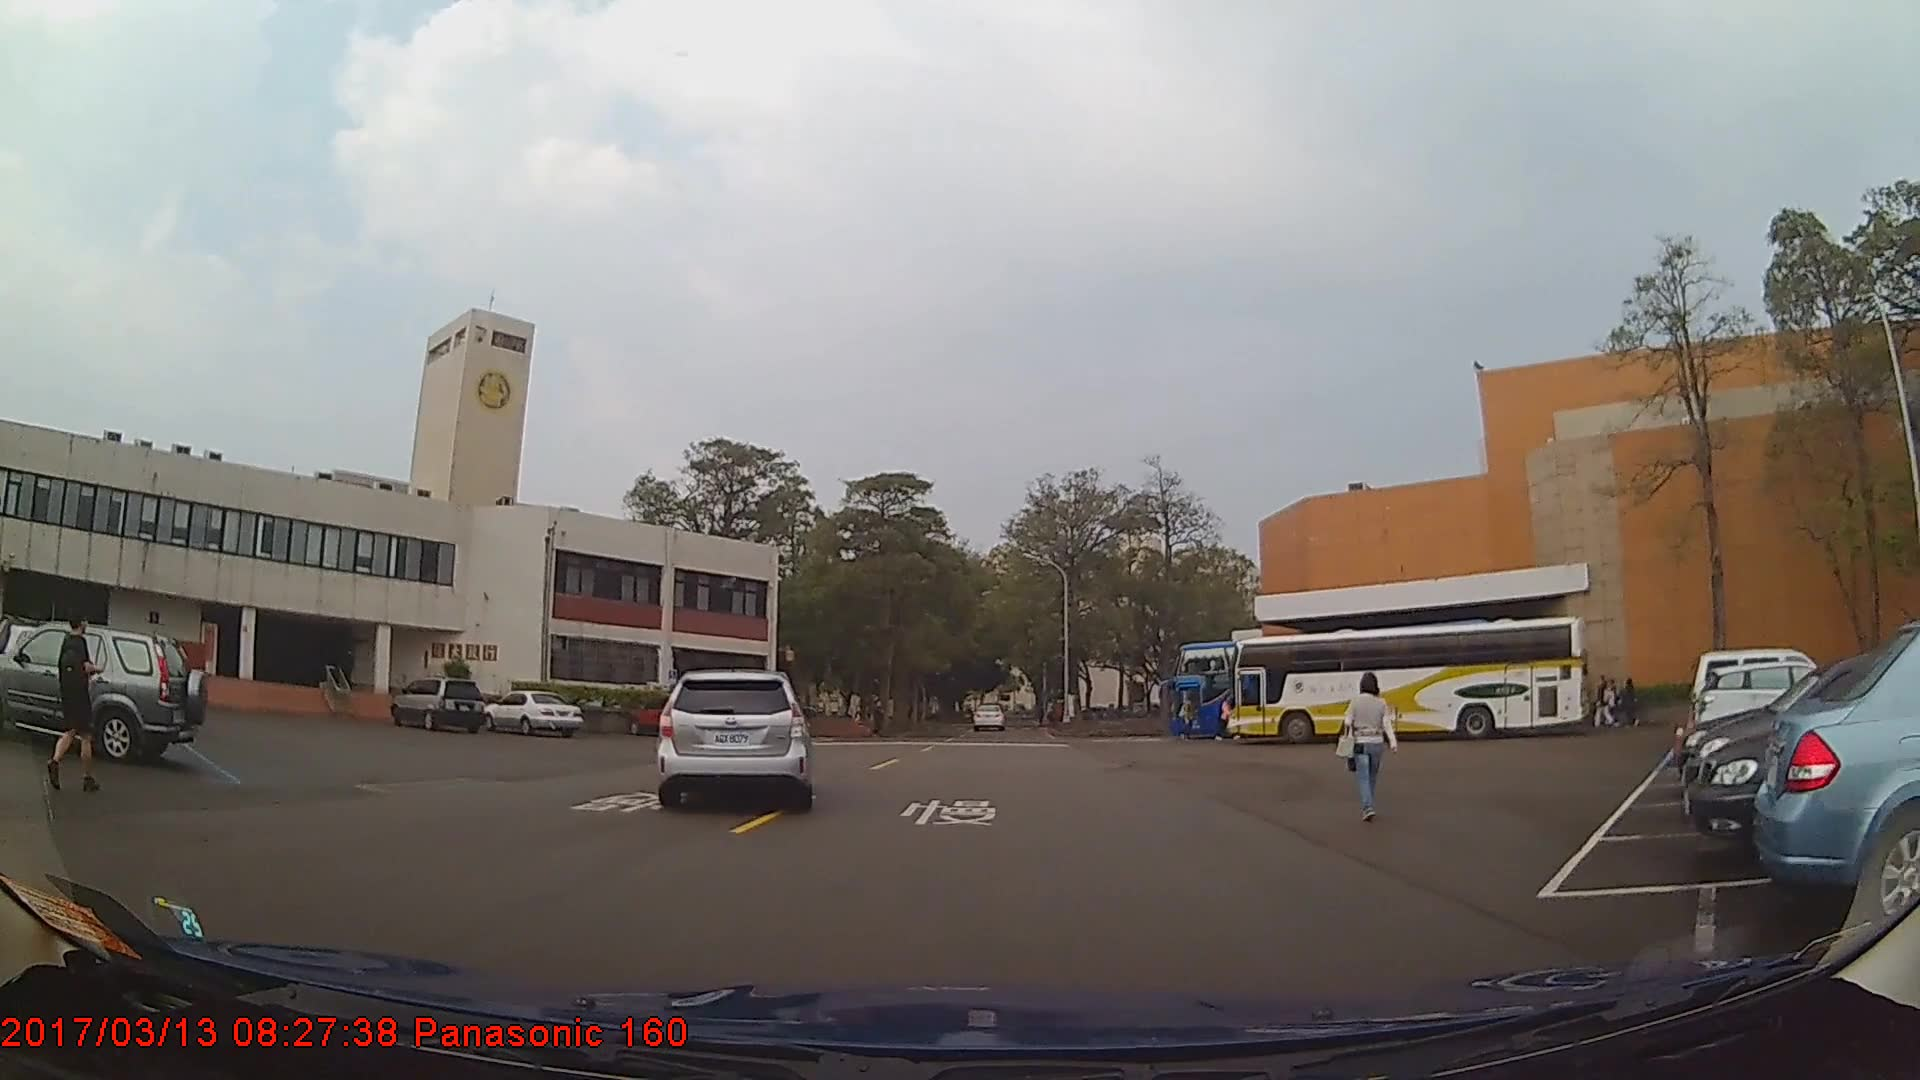pedestrian: (49, 604, 104, 793), (1339, 665, 1393, 819), (1617, 669, 1647, 731)
vehicle: (1752, 617, 1920, 930), (1224, 615, 1587, 746), (1166, 638, 1470, 737), (1, 620, 206, 762), (658, 666, 809, 807), (1696, 659, 1864, 745), (389, 674, 486, 730), (480, 687, 584, 735), (973, 704, 1005, 732)
